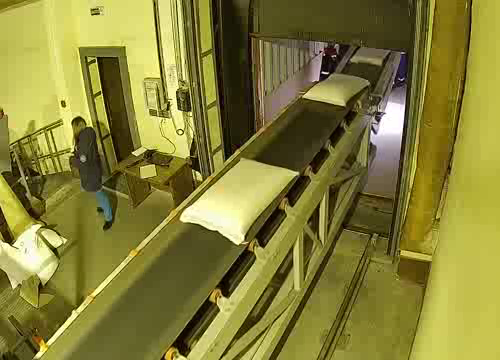bag: (177, 155, 303, 247), (300, 71, 371, 109), (349, 46, 392, 67)
